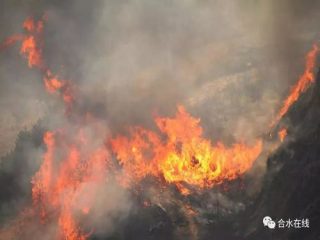fire: (31, 102, 270, 223), (15, 18, 69, 105), (291, 36, 315, 124), (273, 129, 288, 144)
smoke: (72, 9, 286, 105)
